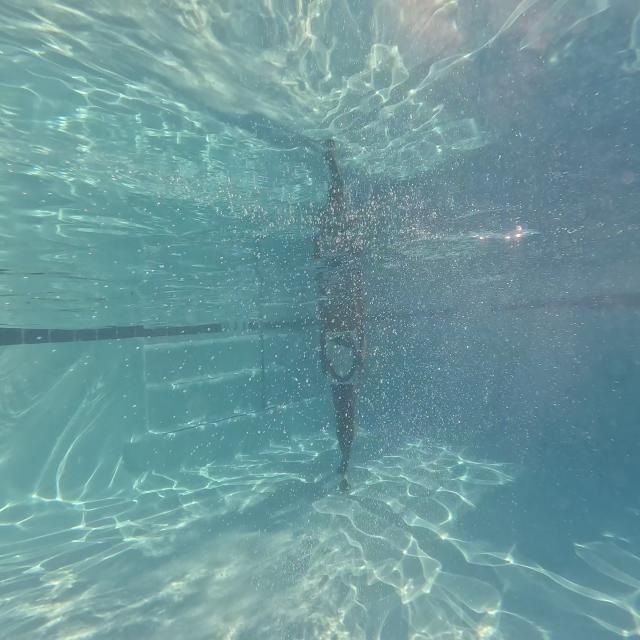blue_side: (325, 326, 366, 380)
